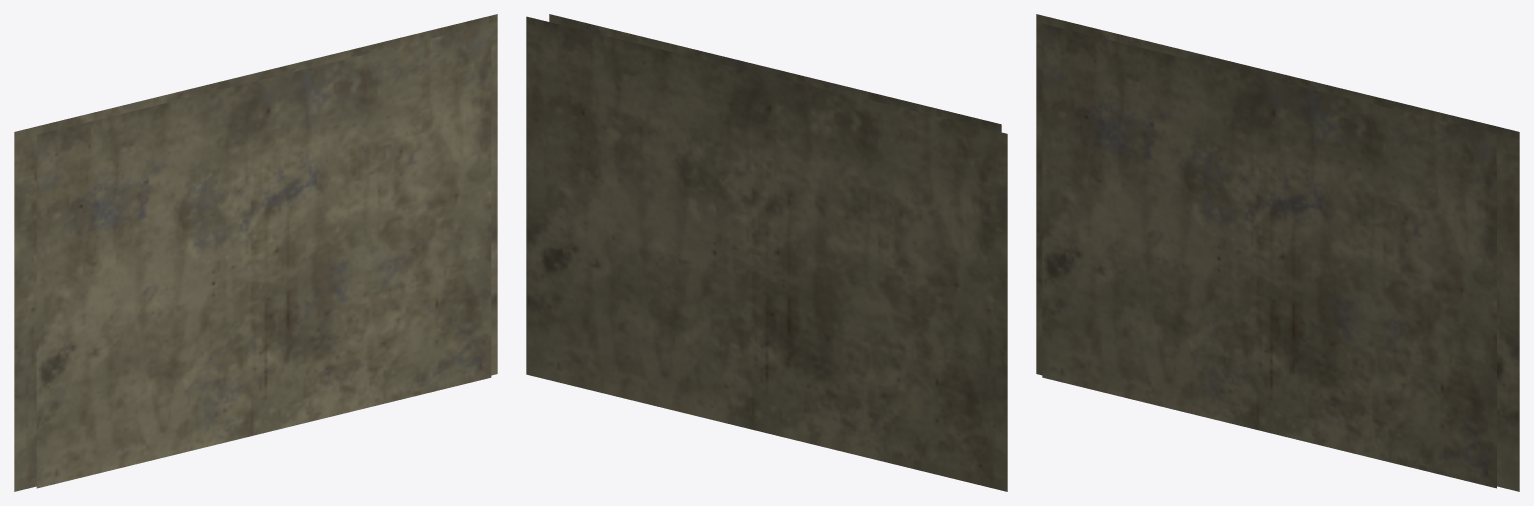
Rendered from Support House Right.fbx.
3 views of the same model, side by side, from view 1: azimuth 30°, elevation 25°; view 2: azimuth 150°, elevation 25°; view 3: azimuth 330°, elevation 25° (orthographic).
Visible parts, largest first — view 1: Casa de Apoio Parede da direita; view 2: Casa de Apoio Parede da direita; view 3: Casa de Apoio Parede da direita.
Part boxes in pixels (left/top/right/bottom): Casa de Apoio Parede da direita: left=14, top=14, right=497, bottom=491; Casa de Apoio Parede da direita: left=526, top=14, right=1007, bottom=491; Casa de Apoio Parede da direita: left=1036, top=14, right=1519, bottom=491.
Bounding box in the file's own units: 500 × 356 × 14.95.
